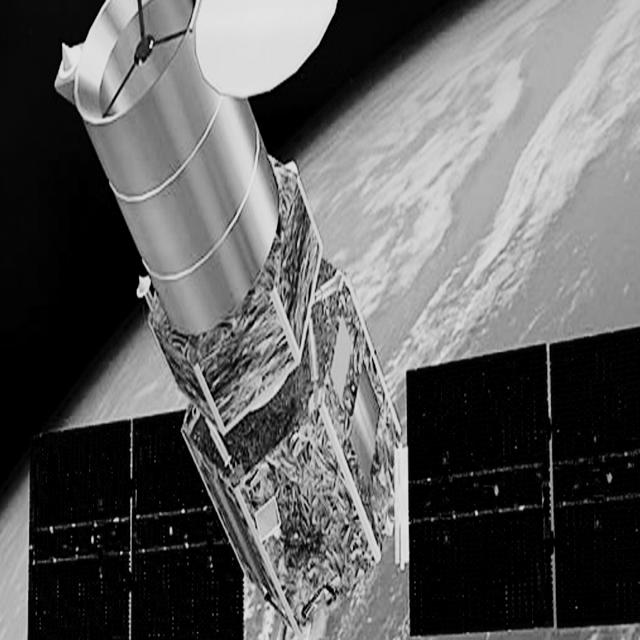satellite: (12, 0, 640, 639)
